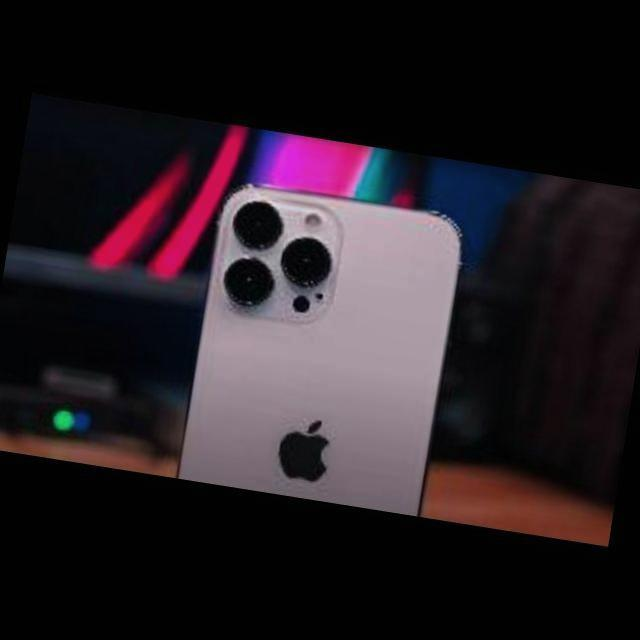phone: (176, 178, 465, 516)
